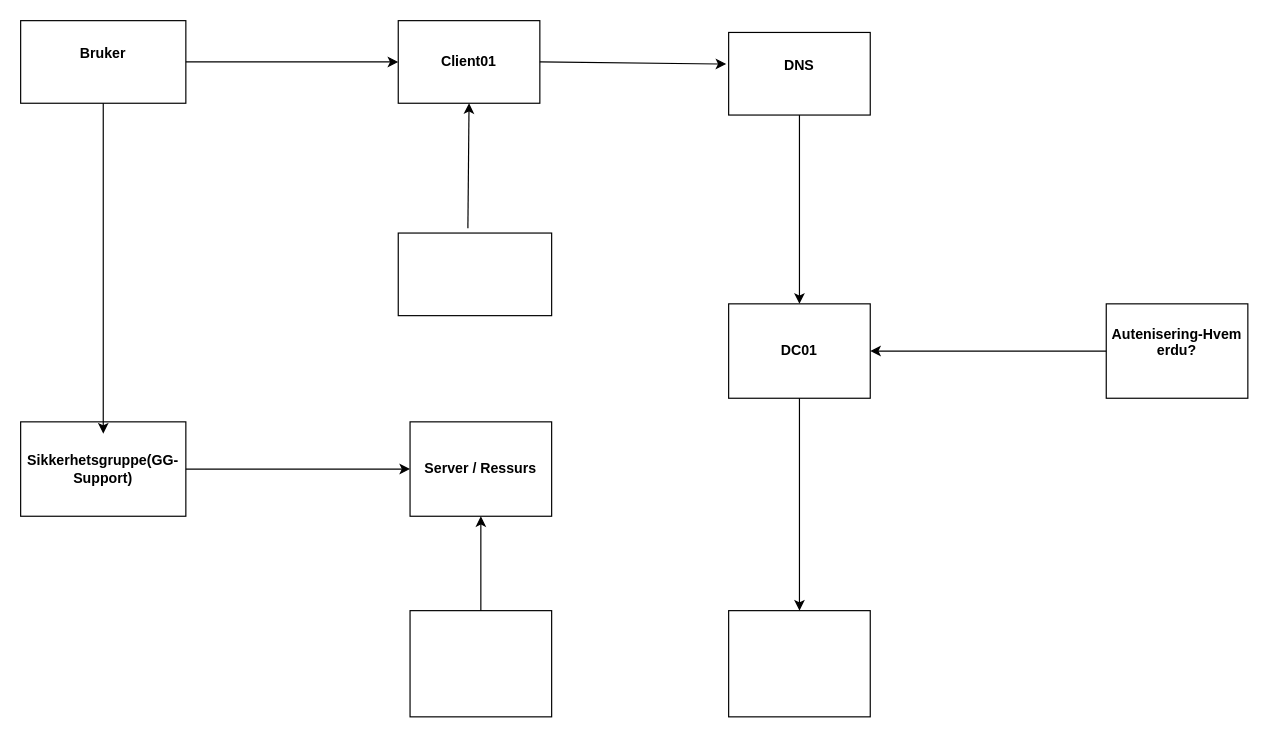
Some shapes in this 1269 by 737 pixel diagram are drawn without their labels. Each missing label, with the centre of its shape:
"Active Directory" belongs at [798,663].
"Autorisasjon.hva har du lov til å gjøre?" belongs at [480,663].
"Group Policy(GPO)" belongs at [474,274].
